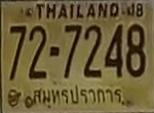2: (84, 25, 102, 72), (28, 25, 46, 72), (84, 24, 101, 68)
4: (104, 24, 122, 76)
7: (9, 25, 25, 73), (64, 24, 81, 63), (9, 25, 25, 63), (64, 24, 81, 58), (9, 25, 25, 58), (64, 24, 81, 53)
8: (125, 23, 144, 76)
SPK: (28, 84, 124, 107)
